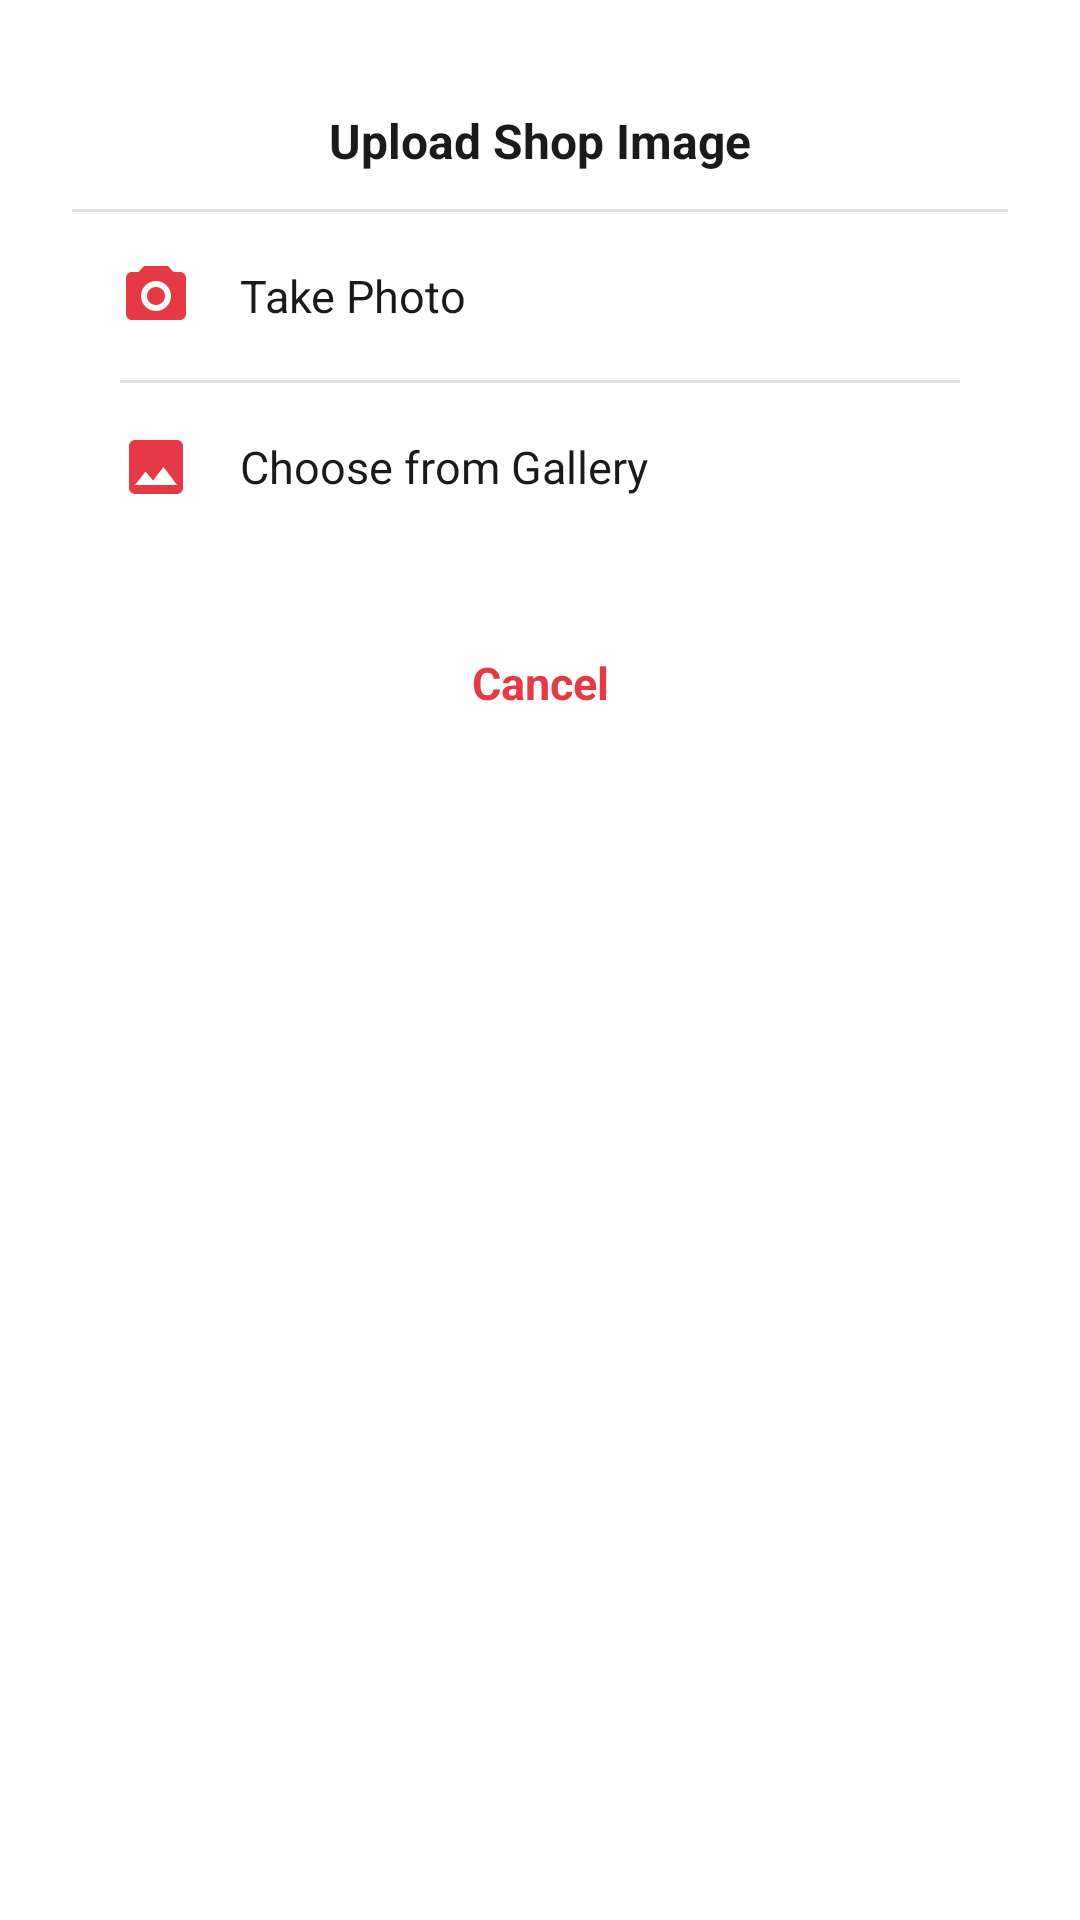

Icons on this 1080px x 1920px Android screen, each with its box as (x1, y1, x2, y2):
Camera: (126, 266, 186, 320)
